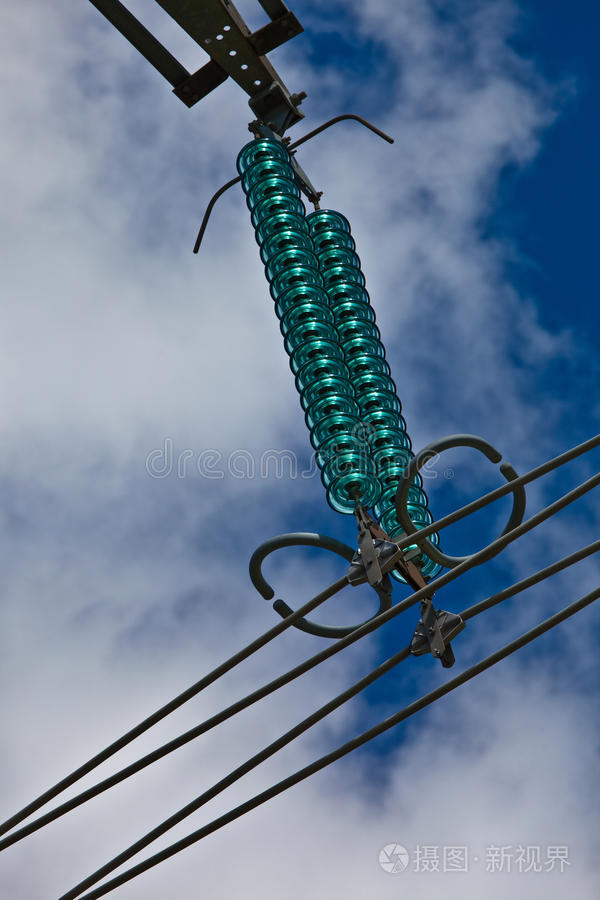insulator: (239, 140, 374, 511), (311, 210, 442, 580)
